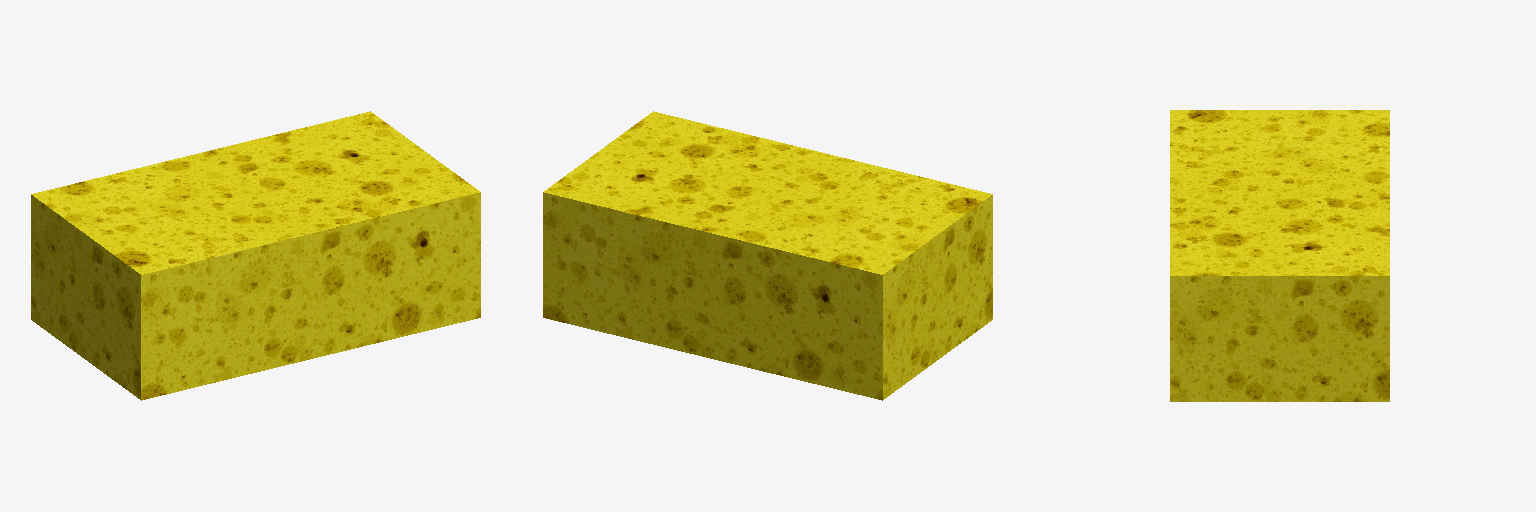
3 renders of one model, left to right at view 1: azimuth 30°, elevation 25°; view 2: azimuth 150°, elevation 25°; view 3: azimuth 270°, elevation 25°, orthographic.
Parts seen in each view (by area): view 1: |Part1|Root|color; view 2: |Part1|Root|color; view 3: |Part1|Root|color.
Part boxes in pixels (x1,y1,x2,y2): |Part1|Root|color: (31,111,480,400); |Part1|Root|color: (543,111,992,400); |Part1|Root|color: (1170,110,1389,401).
Size of the model in its own units: 0.14 by 0.0494 by 0.0788.
1 materials, 1 textured.